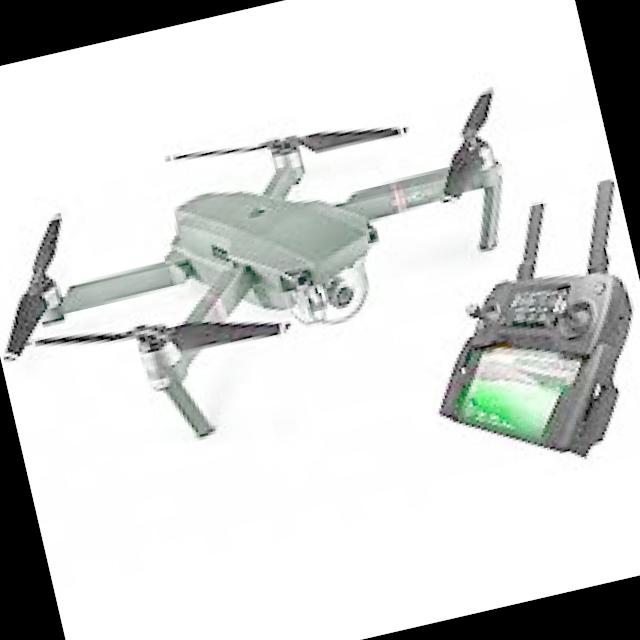drone: (0, 56, 570, 496)
